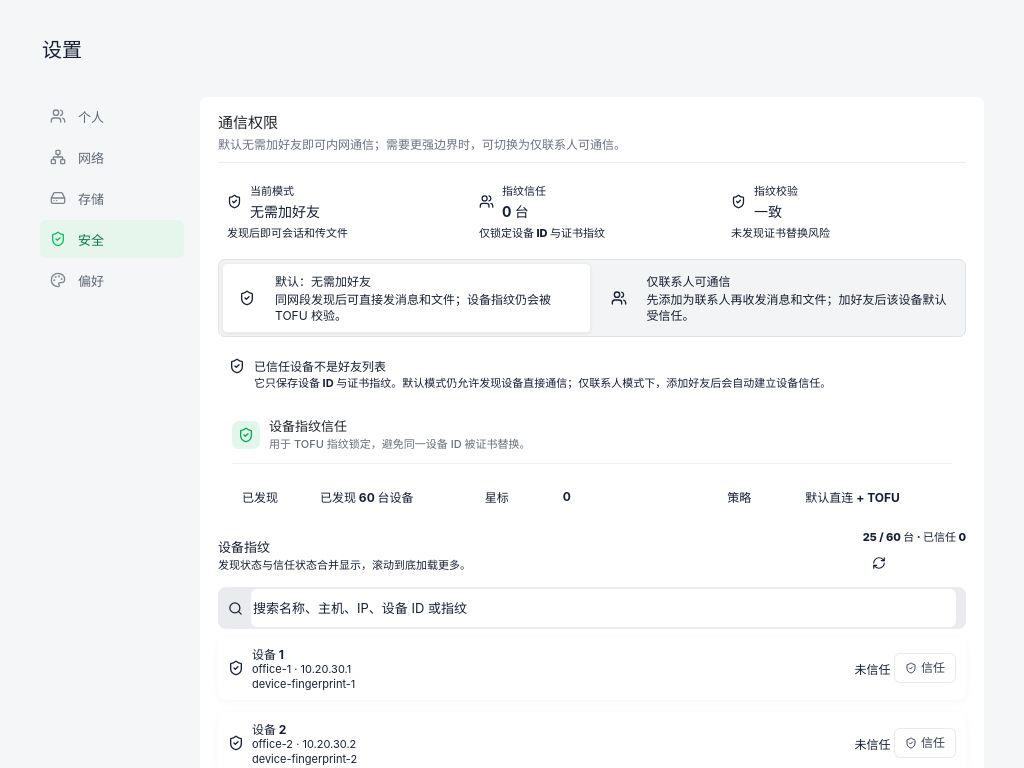
Test case: WorkspacePanel settings › searches every discovered device without rendering the complete list first
The image size is (1024, 768).
Expected: the text "设备 54" is not shown
Type "10.20.30.54" into the field named "搜索设备指纹".
click(604, 608); type("10.20.30.54")  # box [251,589,956,627]
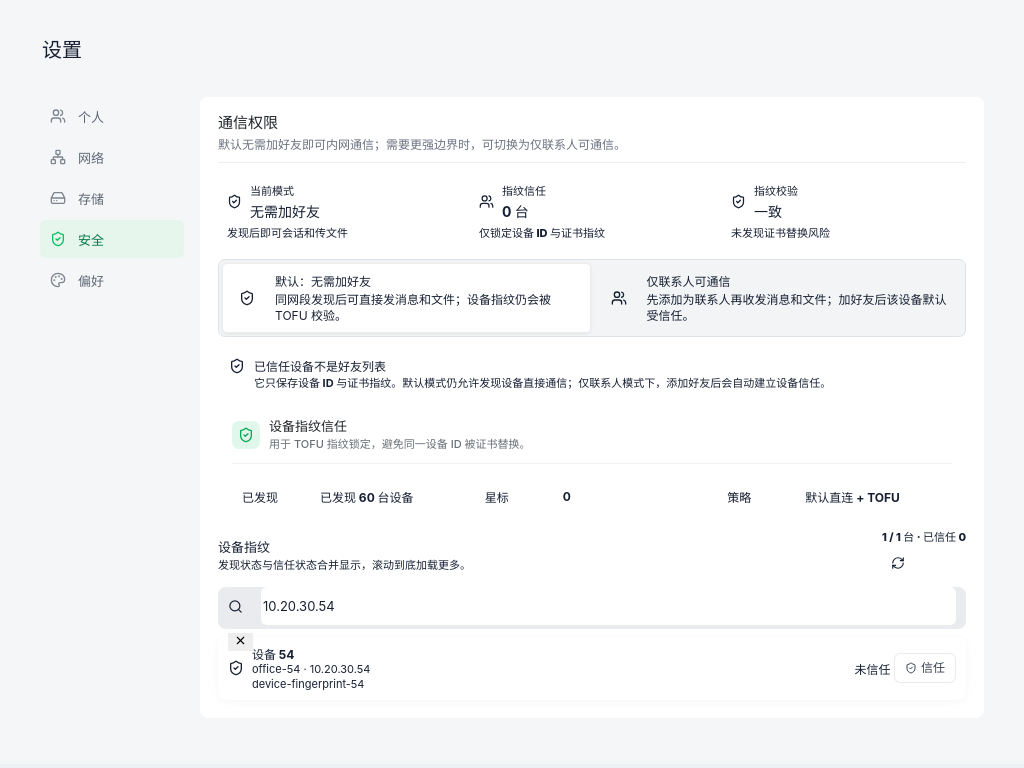
Now the text "设备 54" is shown, box [252,647,294,662]
Now the text "设备 1" is gone
Now the text "1 / 1 台 · 已信任 0" is shown, box [882,530,966,545]
